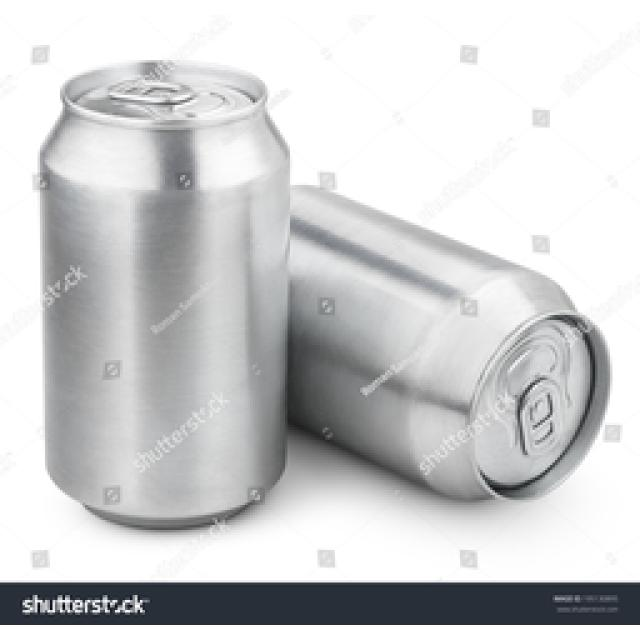aluminum_soda_cans: (38, 60, 292, 532), (298, 245, 614, 508)
